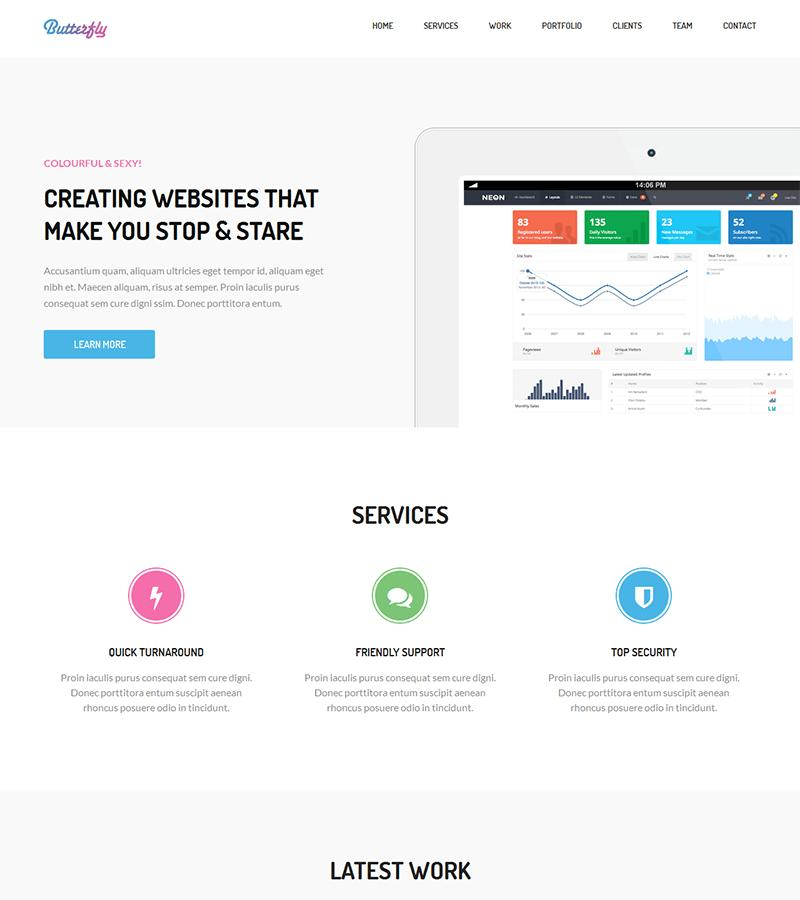button: (39, 325, 163, 365)
